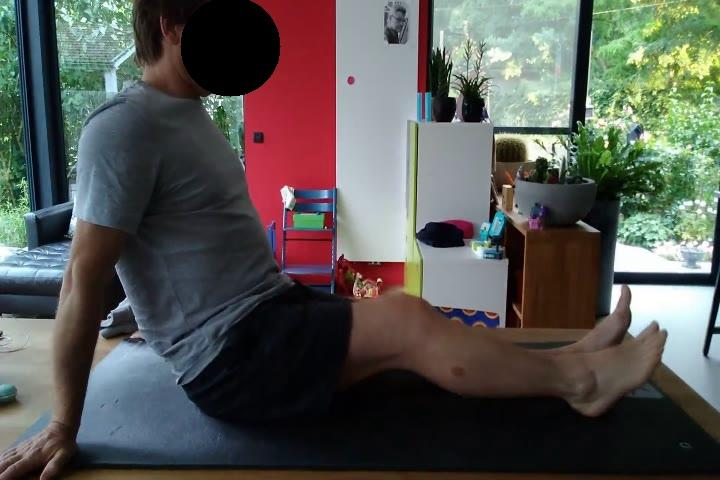lower_body: (181, 283, 670, 422)
